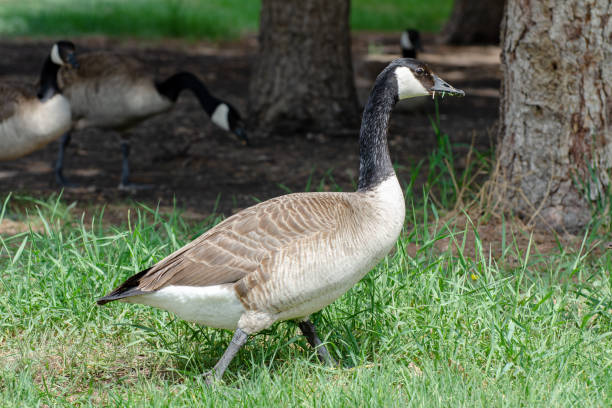goose: (91, 57, 469, 389), (60, 72, 251, 191), (1, 37, 80, 199), (398, 21, 431, 57)
